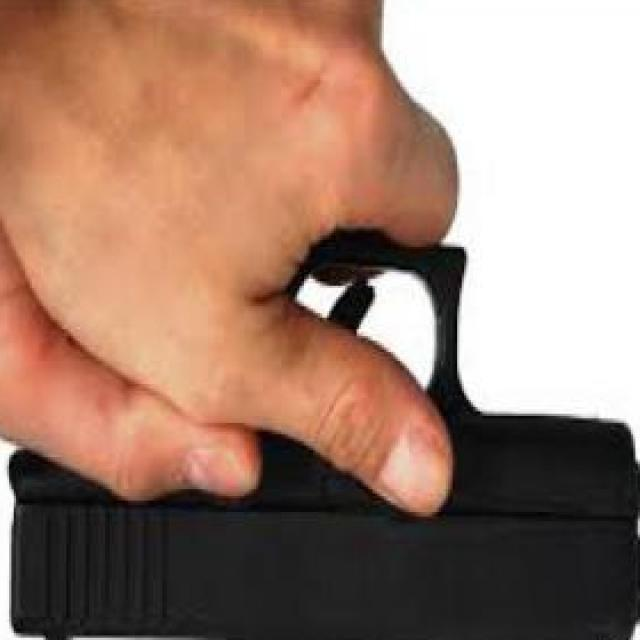pistol: (5, 229, 640, 640)
